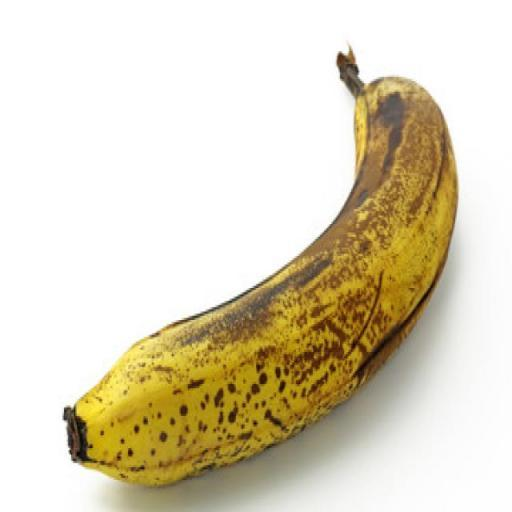fruit: (64, 51, 454, 483)
